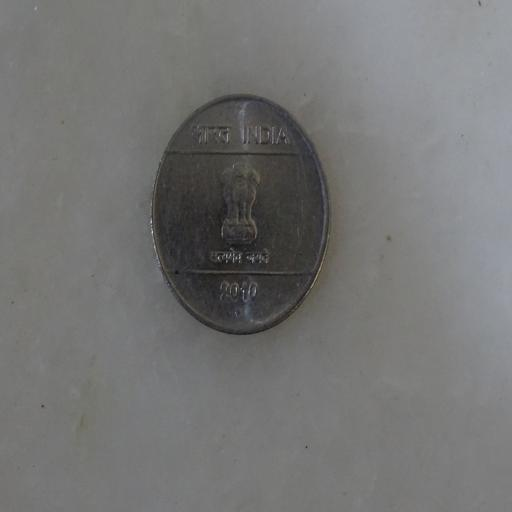rupee1: (145, 88, 336, 338)
